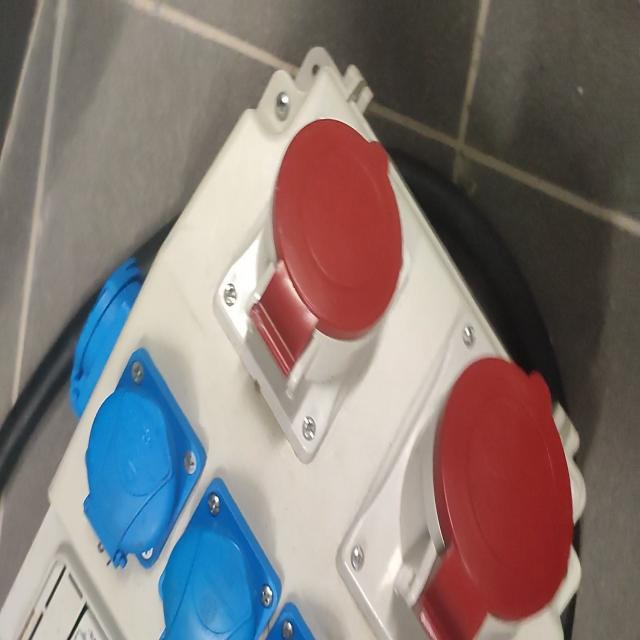400v socket: (332, 312, 571, 640), (211, 118, 413, 461)
house plug covered: (83, 345, 208, 569), (159, 471, 286, 640), (70, 261, 142, 419)
